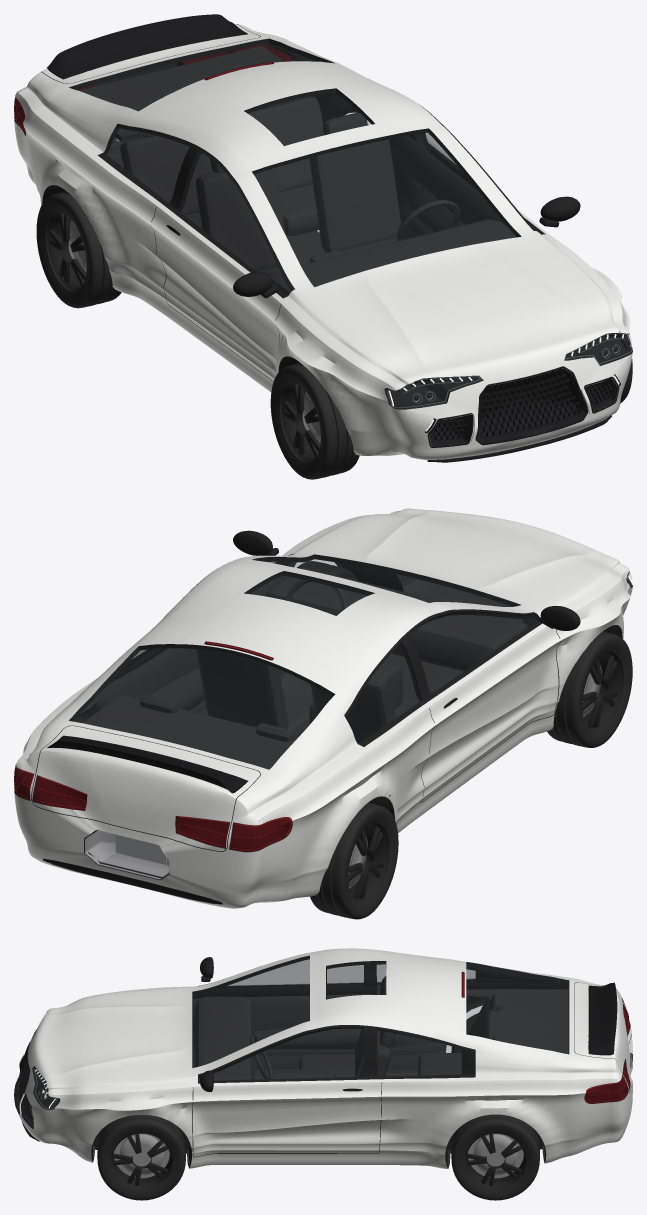
The model's file is coupe.glb.
The picture shows the model from 3 angles, top to bottom: view 1: azimuth 30°, elevation 25°; view 2: azimuth 150°, elevation 25°; view 3: azimuth 270°, elevation 25°; orthographic projection. The views are drawn at different scales.
Parts seen in each view (by area): view 1: body, interior, glass_windshield, grille, glass_back, glass_front_right, rear_spoiler, tire_front_right, glass_sunroof, tire_rear_right, window_trim, glass_quarter_right (+8 smaller); view 2: body, interior, glass_back, glass_front_right, tire_front_right, tire_rear_right, glass_windshield, glass_quarter_right, window_trim, rear_spoiler, glass_sunroof, rim_front_right (+14 smaller); view 3: body, interior, glass_windshield, glass_back, glass_front_left, window_trim, tire_front_left, tire_rear_left, glass_quarter_left, rim_front_left, rim_rear_left, rear_spoiler (+8 smaller).
Boxes of the visible parts, x1,y1,x2,y2 form: body: (14,24,632,460); interior: (79,46,516,295); glass_windshield: (252,129,520,286); grille: (427,366,611,462); glass_back: (70,39,331,110); glass_front_right: (179,151,291,295); rear_spoiler: (47,14,247,79); tire_front_right: (270,363,359,479); glass_sunroof: (245,89,373,145); tire_rear_right: (36,191,121,308); window_trim: (97,104,545,298); glass_quarter_right: (105,127,189,202); body: (14,508,632,908); interior: (83,568,527,769); glass_back: (69,645,334,769); glass_front_right: (410,612,539,692); tire_front_right: (547,631,632,747); tire_rear_right: (310,802,398,919); glass_windshield: (254,555,519,606); glass_quarter_right: (346,643,421,743); window_trim: (109,554,542,746); rear_spoiler: (47,735,247,793); glass_sunroof: (246,572,372,615); rim_front_right: (582,651,623,731); body: (14,948,632,1168); interior: (195,976,568,1130); glass_windshield: (193,956,309,1067); glass_back: (466,962,568,1053); glass_front_left: (198,1027,363,1080); window_trim: (198,964,475,1083); tire_front_left: (97,1114,185,1200); tire_rear_left: (451,1114,539,1200); glass_quarter_left: (377,1029,475,1076); rim_front_left: (110,1133,172,1188); rim_rear_left: (464,1133,526,1188); rear_spoiler: (588,982,617,1055).
Bounding box in the file's own units: 2.26 × 1.4 × 4.63.
